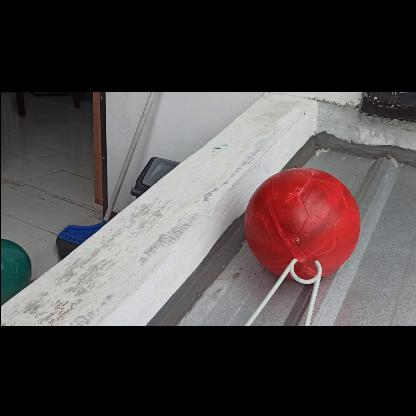red_ball: (244, 166, 360, 280)
